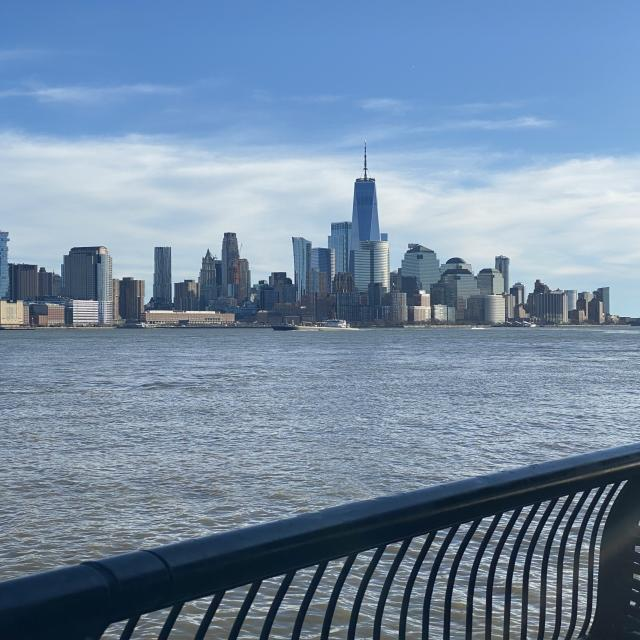WTC: (350, 141, 381, 243)
